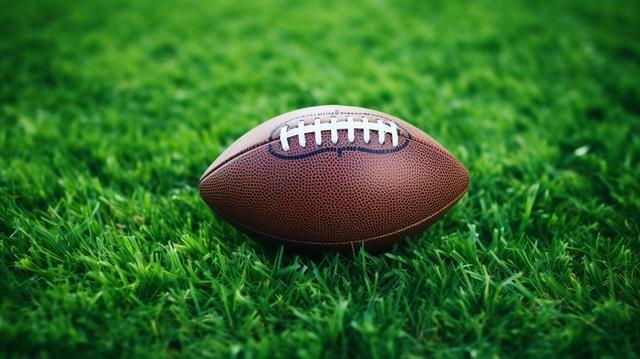Sports-Ball: (200, 105, 470, 253)
